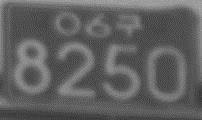0: (144, 43, 187, 103), (54, 10, 83, 36)
2: (57, 41, 95, 98)
5: (100, 43, 140, 101)
6: (85, 12, 111, 38)
8: (12, 38, 52, 95)
구: (115, 13, 142, 36)
